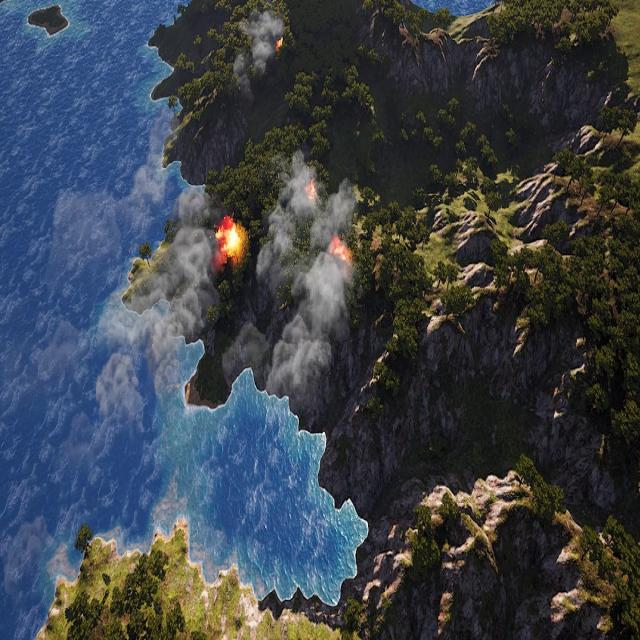fire: (214, 219, 243, 266), (330, 237, 353, 269), (306, 180, 319, 202), (273, 34, 283, 54)
smoke: (40, 104, 214, 470), (222, 142, 356, 400), (236, 7, 286, 97)
